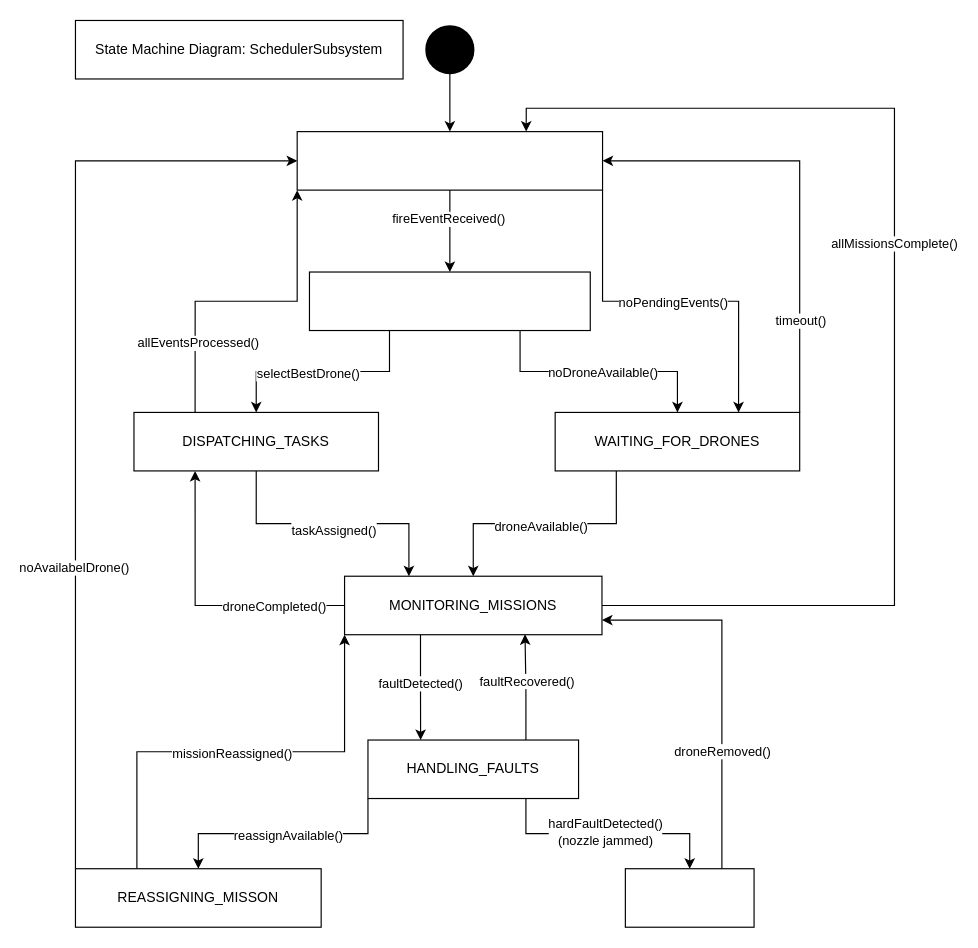
Image size: 978x948. Some labels were removed from this diagram. The box of each missing label's shape, as (x1, y1, x2, y2) in pixels:
OFFLINE_DRONE: (624, 868, 754, 927)
PROCESSING_FIRE: (308, 271, 590, 331)
WAITING_FOR_EVENTS: (296, 130, 603, 190)
